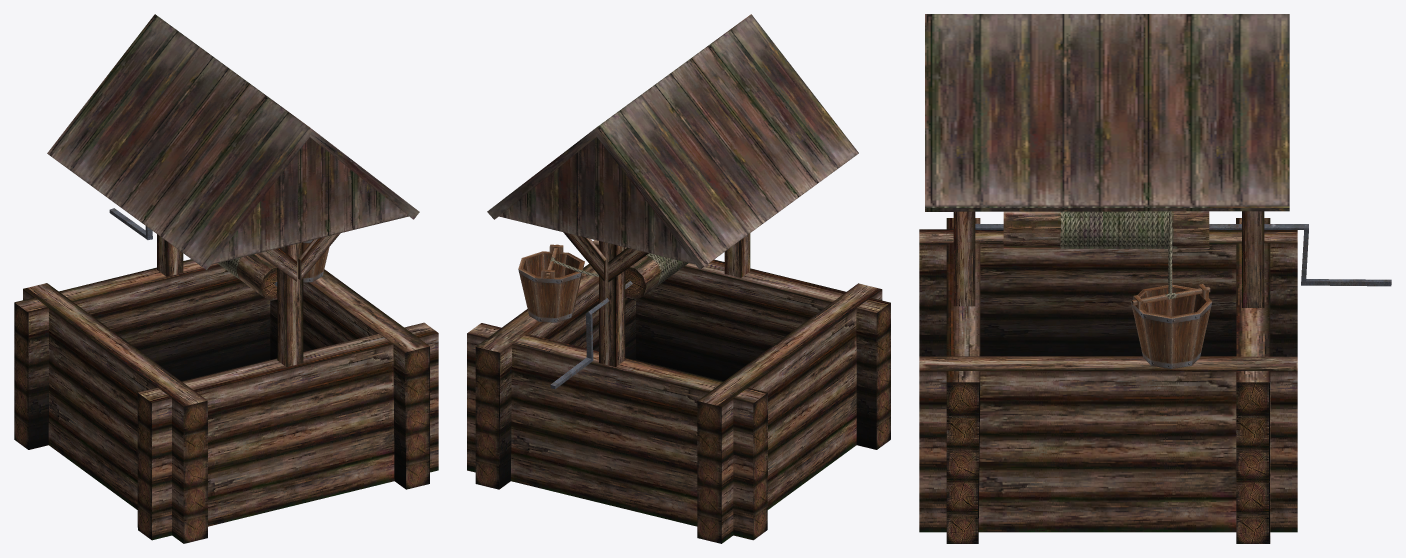
Rendered from rd_will2.glb.
The picture shows the model from 3 angles, left to right: view 1: azimuth 30°, elevation 25°; view 2: azimuth 150°, elevation 25°; view 3: azimuth 270°, elevation 25°; orthographic projection. The views are drawn at different scales.
Parts seen in each view (by area): view 1: rd_will2; view 2: rd_will2; view 3: rd_will2.
Part boxes in pixels (bbox=[...]): rd_will2: bbox=[14, 14, 438, 543]; rd_will2: bbox=[467, 14, 890, 543]; rd_will2: bbox=[919, 14, 1391, 543].
Size of the model in its own units: 2.42 by 3.09 by 2.94.
4 materials, 4 textured.
